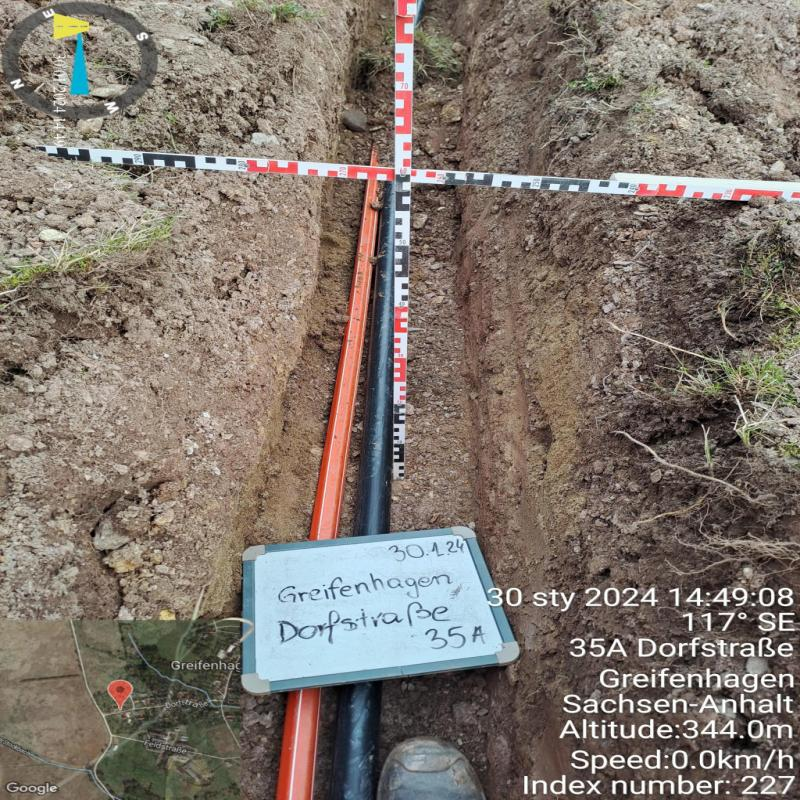Orang-Speednetrohrchen: (307, 189, 385, 538), (276, 691, 326, 795)
